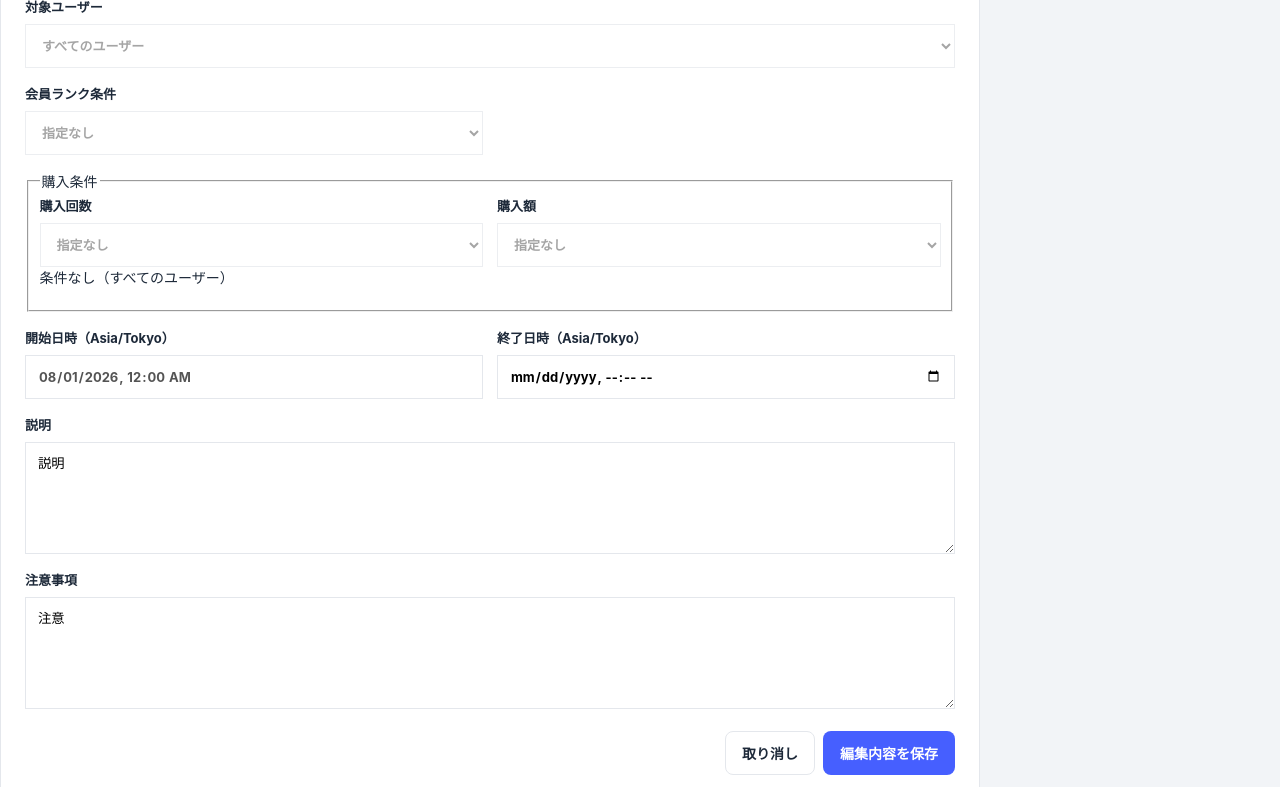
Test: Gacha lifecycle editing › shows the canonical revision conflict guidance when saving a restored Draft
The image size is (1280, 787).
(page scrolled)
What coordinates should you click on to do the following:
click the button "編集内容を保存"
I would click on:
 (889, 753)
Its box is [823,731,955,775].
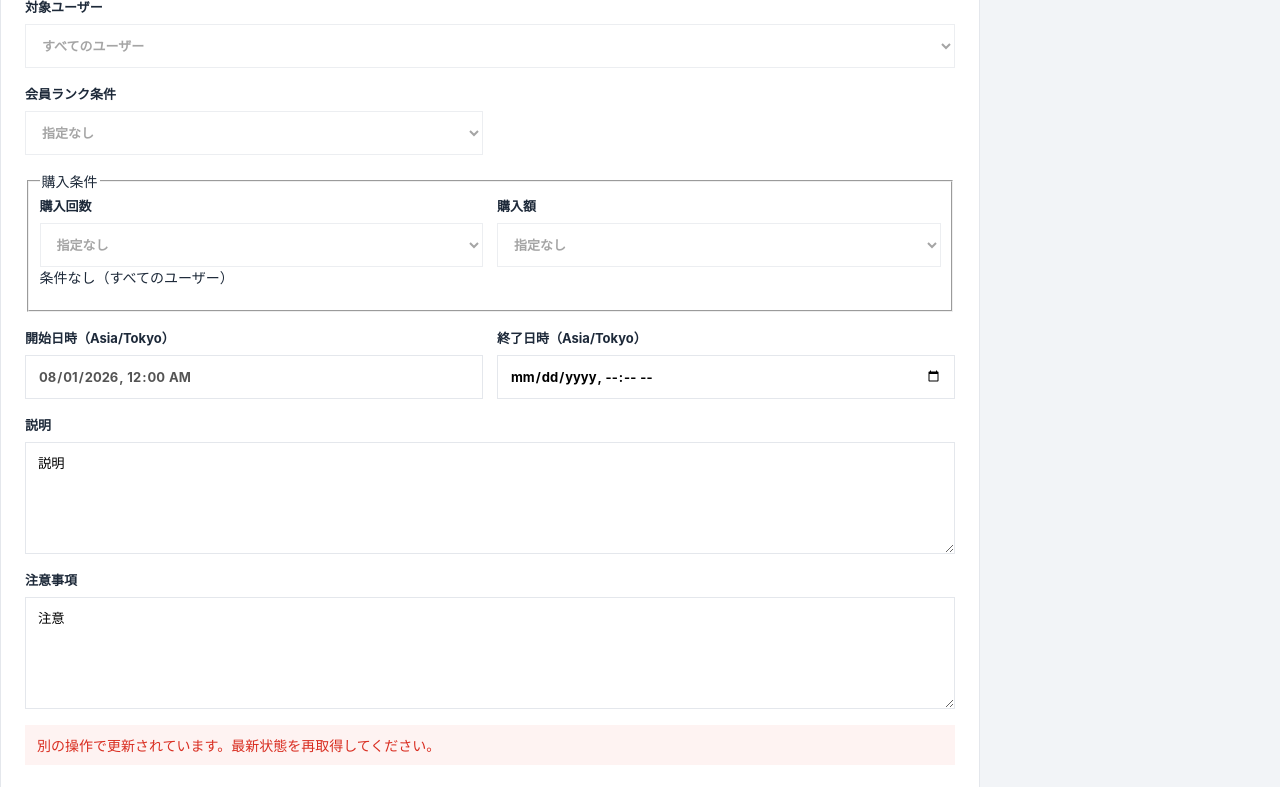
Expected: the text "別の操作で更新されています。最新状態を再取得してください。" is shown, [25,725,955,765]
